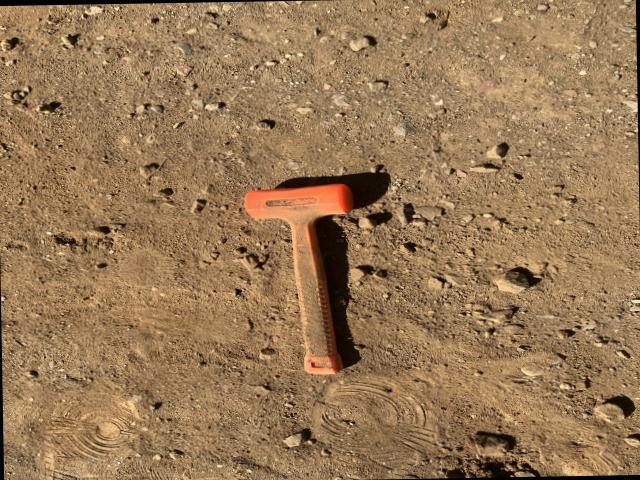hammer: (246, 183, 356, 376)
